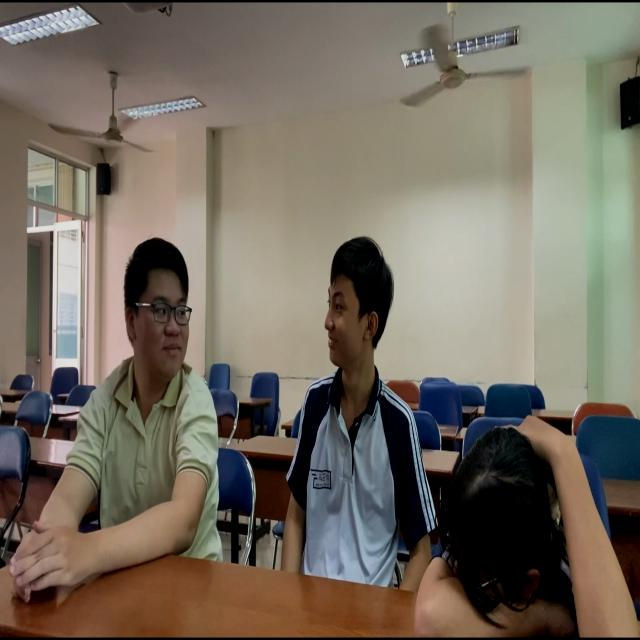sleep: (413, 417, 640, 640)
